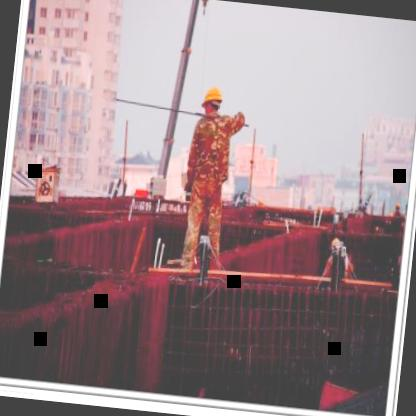helmet: (195, 84, 226, 118)
